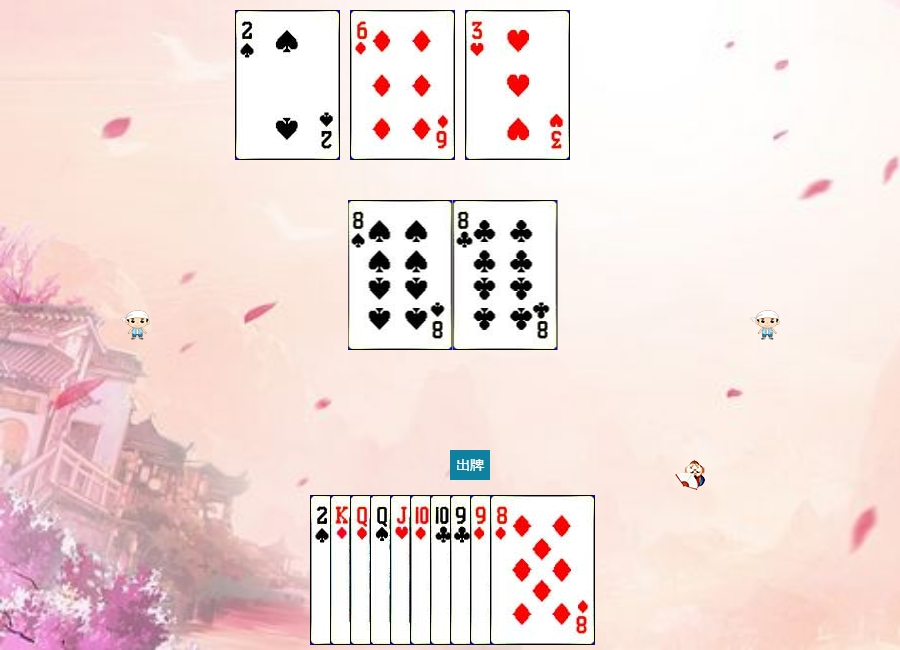10~1: (410, 495, 515, 645)
10~2: (430, 495, 535, 645)
11~3: (390, 495, 495, 645)
12~1: (350, 495, 455, 645)
12~4: (370, 495, 475, 645)
13~1: (330, 495, 435, 645)
15~4: (235, 10, 340, 160), (310, 495, 415, 645)
3~3: (465, 10, 570, 160)
6~1: (350, 10, 455, 160)
8~1: (490, 495, 595, 645)
8~2: (453, 200, 558, 350)
8~4: (348, 200, 453, 350)
9~1: (470, 495, 575, 645)
9~2: (450, 495, 555, 645)
